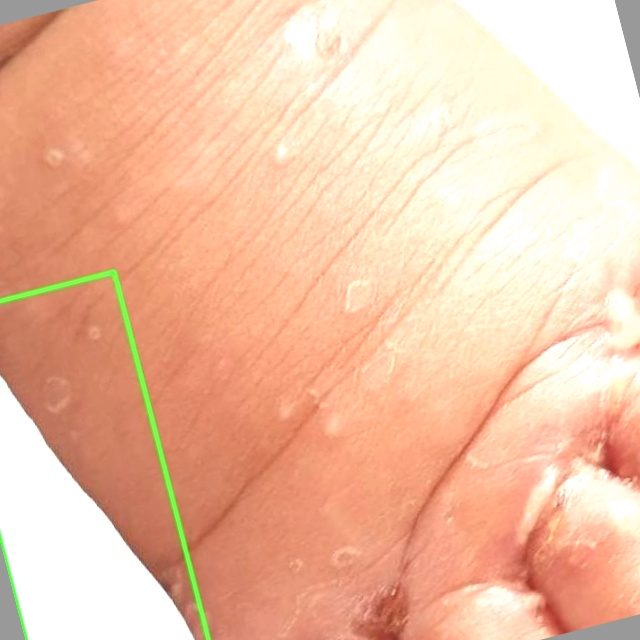Scabies: (0, 271, 208, 639)
